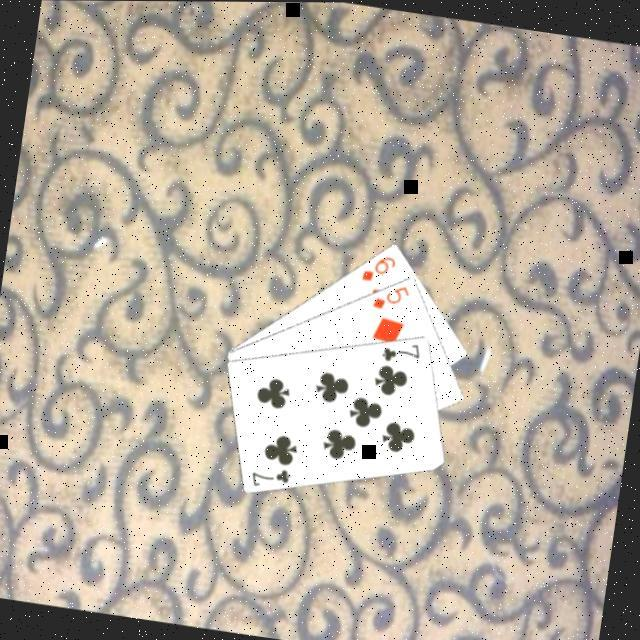5D: (371, 280, 415, 318)
6D: (359, 252, 401, 288)
7C: (248, 462, 296, 496), (380, 338, 426, 371)
